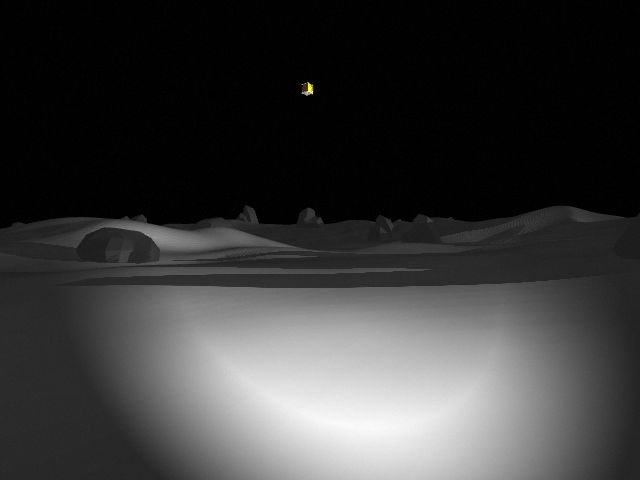cubesat: (297, 80, 314, 100)
